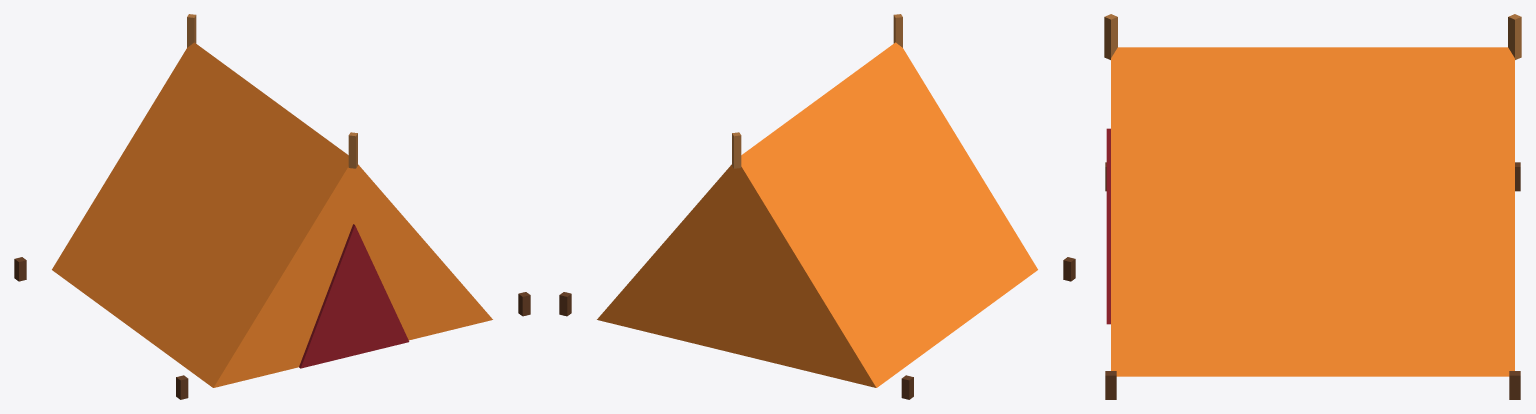
Rendered from Tent.fbx.
3 views of the same model, side by side, from view 1: azimuth 30°, elevation 25°; view 2: azimuth 150°, elevation 25°; view 3: azimuth 270°, elevation 25° (orthographic). The views are drawn at different scales.
Parts seen in each view (by area): view 1: Tent; view 2: Tent; view 3: Tent.
Boxes of the visible parts, <box> form: Tent: <box>14,14,530,399</box>; Tent: <box>559,14,1075,399</box>; Tent: <box>1104,14,1521,399</box>.
Bounding box in the file's own units: 6.75 × 4.08 × 5.58.
1 material, 1 textured.
